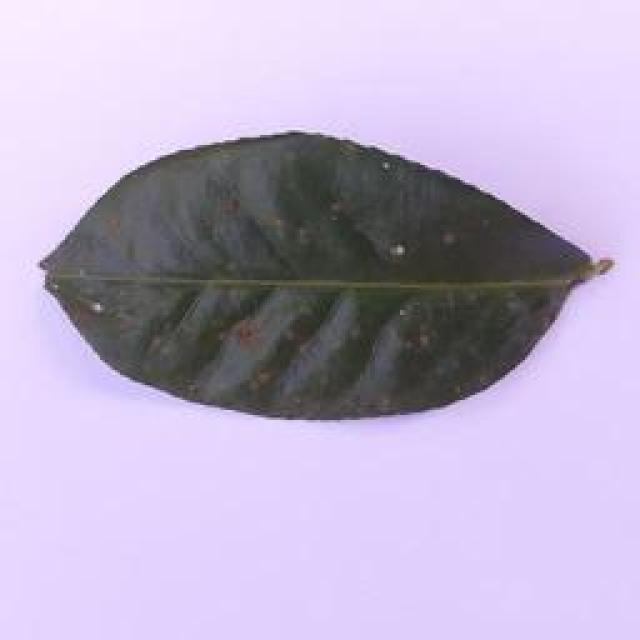Algal Leaf Spot: (29, 132, 619, 424)
